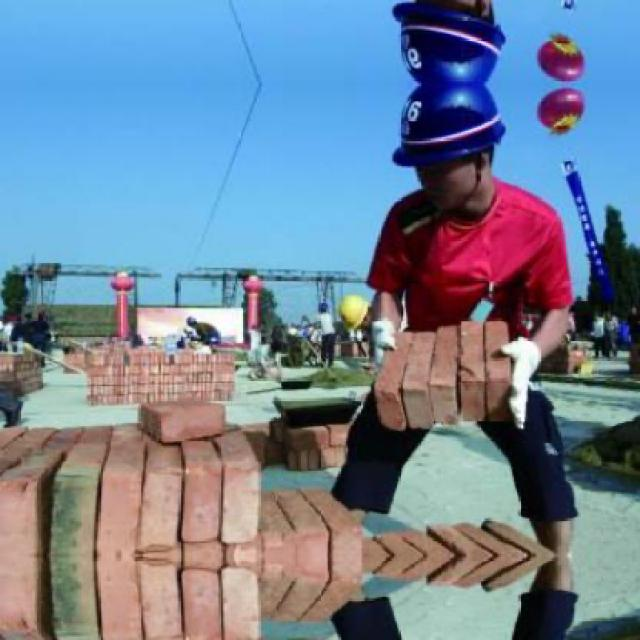helmet: (386, 86, 511, 219), (384, 0, 510, 82), (334, 288, 371, 330)
